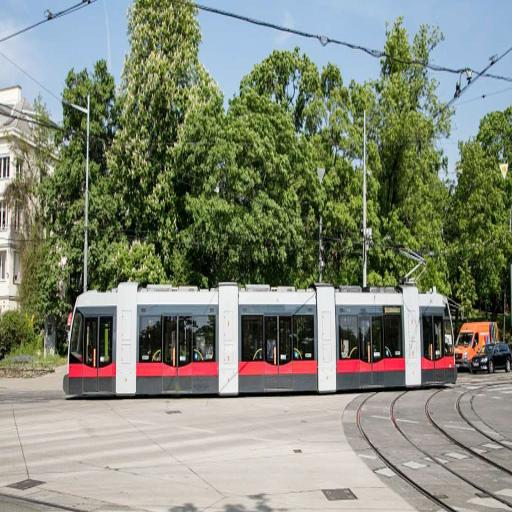ULF: (66, 280, 455, 399)
